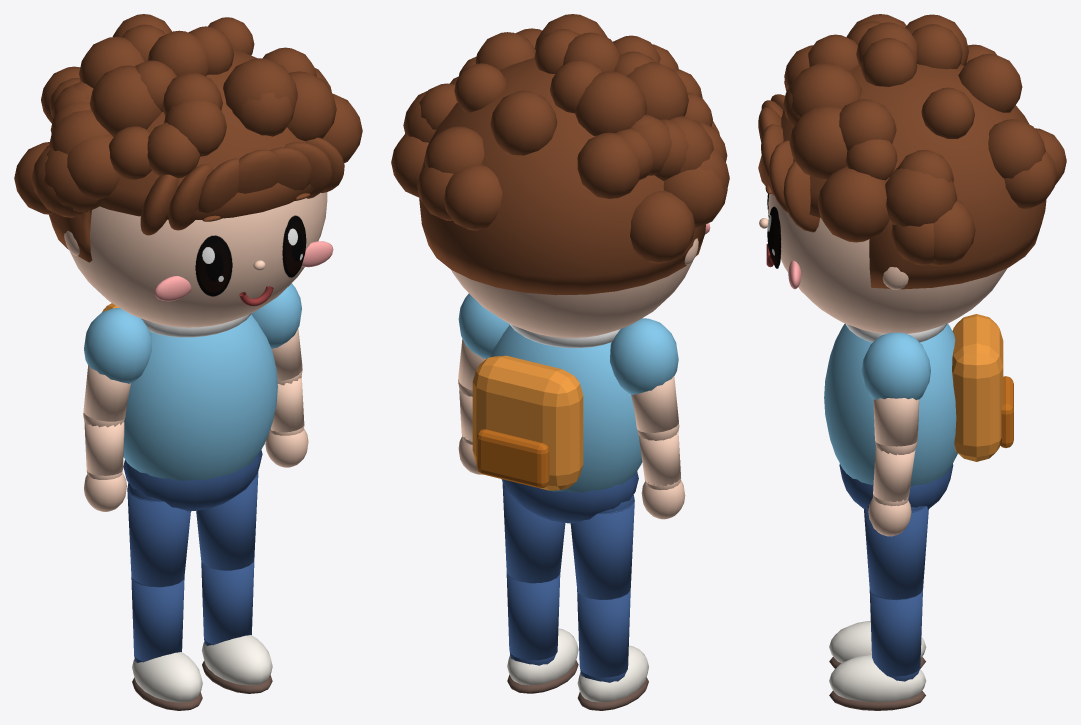
The model's file is hero.glb.
The picture shows the model from 3 angles, left to right: view 1: azimuth 30°, elevation 25°; view 2: azimuth 150°, elevation 25°; view 3: azimuth 270°, elevation 25°; orthographic projection.
Visible parts, largest first — view 1: head, spine, shinR, shinL, upperArmR, thighR, thighL, pelvis, foreArmR, upperArmL, foreArmL; view 2: head, spine, shinR, shinL, upperArmR, thighR, thighL, pelvis, foreArmR, upperArmL, foreArmL; view 3: head, spine, shinL, upperArmL, thighL, foreArmL, pelvis, shinR.
Boxes of the visible parts, x1=… form: head: x1=14, y1=14, x2=362, y2=327; spine: x1=102, y1=303, x2=277, y2=480; shinR: x1=131, y1=576, x2=202, y2=710; shinL: x1=201, y1=557, x2=272, y2=693; upperArmR: x1=83, y1=308, x2=151, y2=427; thighR: x1=127, y1=482, x2=190, y2=586; thighL: x1=196, y1=470, x2=258, y2=570; pelvis: x1=123, y1=450, x2=262, y2=511; foreArmR: x1=84, y1=421, x2=126, y2=511; upperArmL: x1=251, y1=283, x2=302, y2=385; foreArmL: x1=265, y1=377, x2=308, y2=467; head: x1=391, y1=14, x2=729, y2=337; spine: x1=472, y1=324, x2=642, y2=492; shinR: x1=577, y1=589, x2=648, y2=710; shinL: x1=506, y1=571, x2=578, y2=693; upperArmR: x1=610, y1=318, x2=679, y2=440; thighR: x1=570, y1=494, x2=634, y2=599; thighL: x1=502, y1=481, x2=565, y2=583; pelvis: x1=501, y1=471, x2=638, y2=523; foreArmR: x1=638, y1=431, x2=685, y2=519; upperArmL: x1=458, y1=293, x2=509, y2=396; foreArmL: x1=458, y1=390, x2=482, y2=474; head: x1=758, y1=14, x2=1066, y2=333; spine: x1=824, y1=314, x2=1013, y2=486; shinL: x1=829, y1=589, x2=926, y2=710; upperArmL: x1=861, y1=332, x2=930, y2=455; thighL: x1=864, y1=506, x2=928, y2=599; foreArmL: x1=868, y1=445, x2=915, y2=536; pelvis: x1=839, y1=464, x2=953, y2=509; shinR: x1=829, y1=621, x2=926, y2=668.
Bounding box in the file's own units: 0.6543 × 1.35 × 0.5777.
13 materials, 1 textured.
